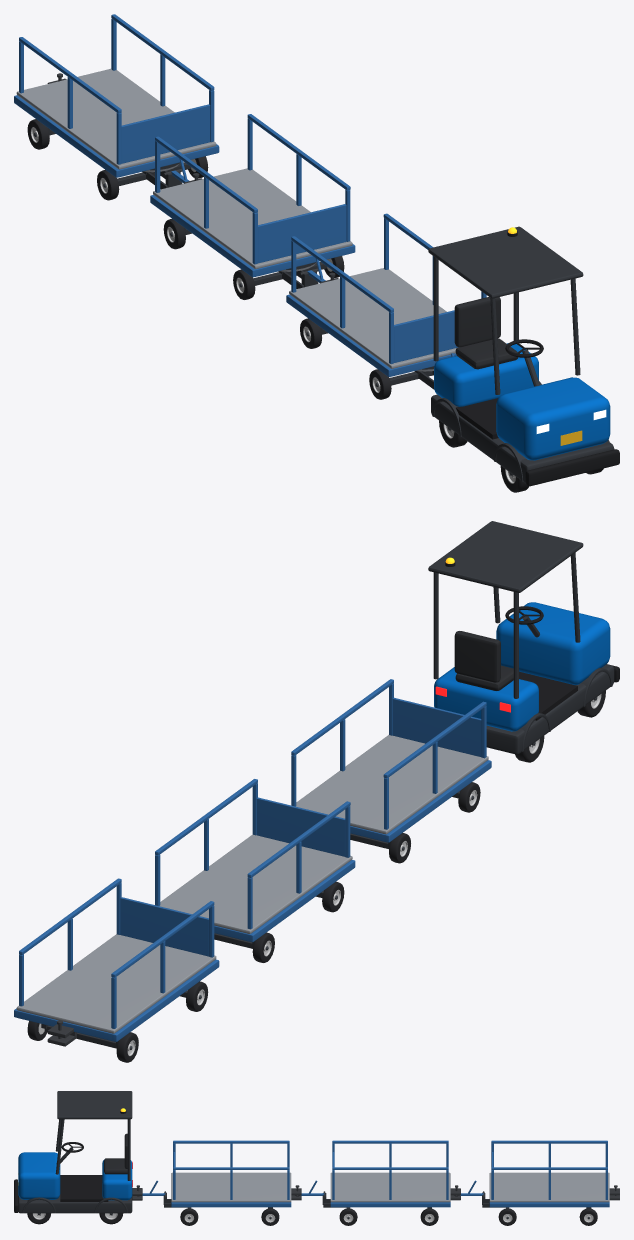
File: tug_cart_train.glb
The picture shows the model from 3 angles, top to bottom: view 1: azimuth 30°, elevation 25°; view 2: azimuth 150°, elevation 25°; view 3: azimuth 270°, elevation 25°; orthographic projection. The views are drawn at different scales.
Parts seen in each view (by area): view 1: tug_geo, cart2_body_geo, cart3_body_geo, cart1_body_geo; view 2: tug_geo, cart3_body_geo, cart1_body_geo, cart2_body_geo; view 3: tug_geo, cart3_body_geo, cart1_body_geo, cart2_body_geo, cart1_wheel_FL_geo, cart2_wheel_RL_geo, cart1_wheel_RL_geo, cart2_wheel_FL_geo, cart3_wheel_RL_geo, cart3_wheel_FL_geo, tug_wheel_FL_geo, tug_wheel_RL_geo.
Boxes of the visible parts, x1=… form: tug_geo: x1=428, y1=226, x2=619, y2=486; cart2_body_geo: x1=150, y1=114, x2=355, y2=277; cart3_body_geo: x1=14, y1=14, x2=219, y2=177; cart1_body_geo: x1=286, y1=213, x2=486, y2=376; tug_geo: x1=428, y1=521, x2=619, y2=754; cart3_body_geo: x1=14, y1=878, x2=219, y2=1048; cart1_body_geo: x1=291, y1=679, x2=491, y2=848; cart2_body_geo: x1=155, y1=779, x2=355, y2=948; tug_geo: x1=14, y1=1091, x2=142, y2=1213; cart3_body_geo: x1=489, y1=1140, x2=619, y2=1208; cart1_body_geo: x1=171, y1=1140, x2=301, y2=1208; cart2_body_geo: x1=330, y1=1140, x2=460, y2=1208; cart1_wheel_FL_geo: x1=180, y1=1208, x2=198, y2=1225; cart2_wheel_RL_geo: x1=420, y1=1208, x2=438, y2=1225; cart1_wheel_RL_geo: x1=261, y1=1208, x2=279, y2=1225; cart2_wheel_FL_geo: x1=339, y1=1208, x2=357, y2=1225; cart3_wheel_RL_geo: x1=579, y1=1208, x2=597, y2=1225; cart3_wheel_FL_geo: x1=498, y1=1208, x2=516, y2=1225; tug_wheel_FL_geo: x1=27, y1=1213, x2=50, y2=1224; tug_wheel_RL_geo: x1=99, y1=1213, x2=123, y2=1224.
Size of the model in its own units: 1.16 by 2.08 by 10.09.
Materials: 2 (2 with a texture image).
